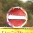No entry: (5, 5, 27, 27)
